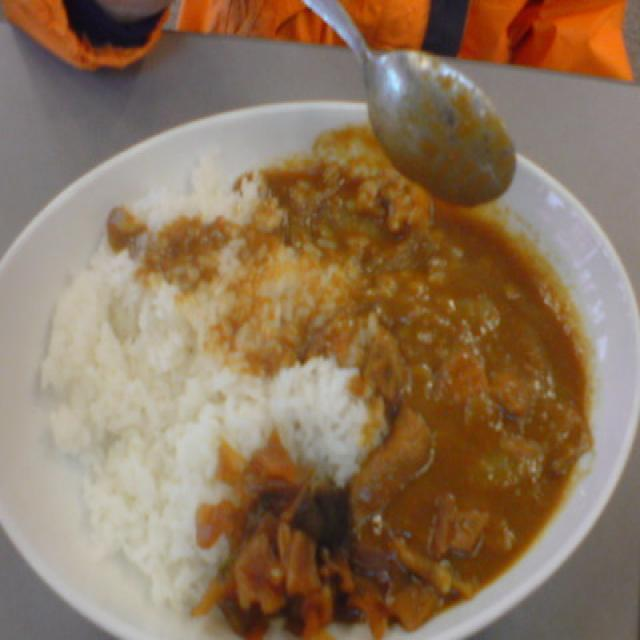牛肉菜式: (0, 98, 640, 640)
